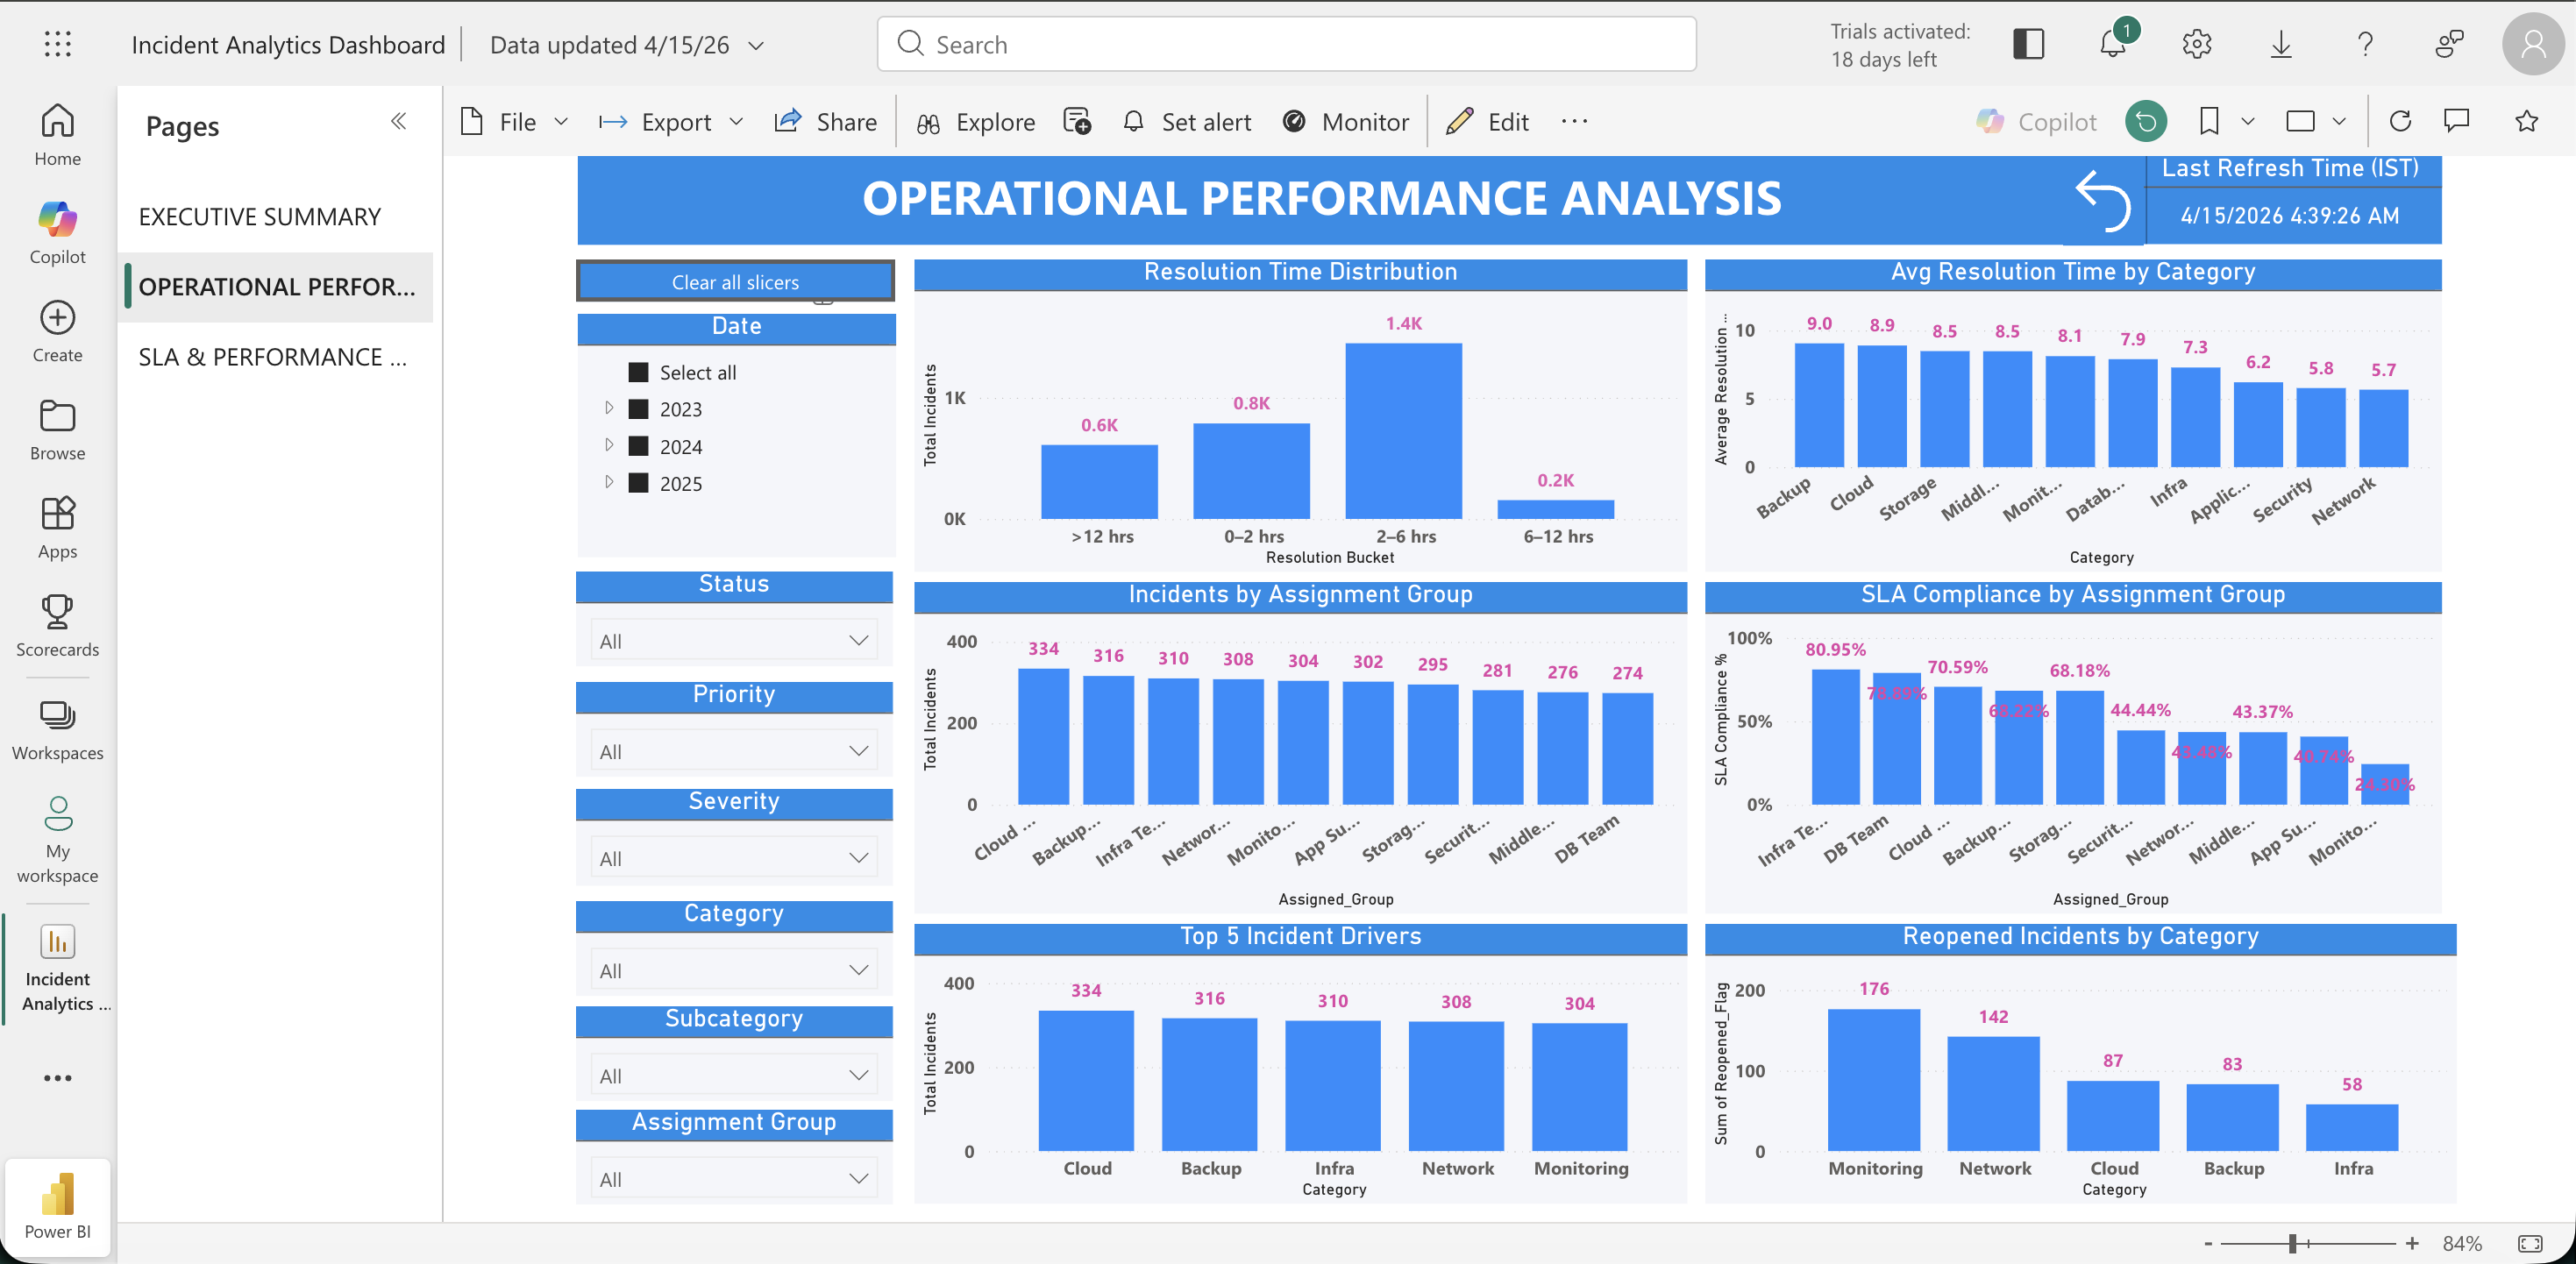

This screenshot's page, from the dashboard's own definition file:
{"tool":"powerbi","page":{"name":"OPERATIONAL PERFORMANCE ANALYSIS","canvas":[1280,720],"ordinal":1},"visuals":[{"type":"textbox","box":[10.2,0,1005.7,60],"z":0,"group":"g1"},{"type":"clusteredColumnChart","title":"Resolution Time Distribution","fields":{"Category":["Fact_Incident.Resolution Bucket"],"Y":["Measure.Total Incidents"]},"box":[238.5,69.8,522.2,210.9],"z":0},{"type":"slicer","title":"Status","fields":{"Values":["Dim_Status.Status"]},"box":[10.2,280.7,213.8,64],"z":0,"group":"g2"},{"type":"card","title":"Last Refresh Time (IST)","fields":{"Values":["Min(Last Refresh Time (IST).Last Refresh Time (IST))"]},"box":[1064.5,0,205.1,59.6],"z":1000,"group":"g1"},{"type":"clusteredColumnChart","title":"Avg Resolution Time by Category","fields":{"Y":["Measure.Average Resolution Time (Hours)"],"Category":["Dim_Category.Category"]},"box":[772.4,69.8,497.5,210.9],"z":1000},{"type":"slicer","title":"Priority","fields":{"Values":["Dim_Priority.Priority"]},"box":[10.2,354.9,213.8,64],"z":1000,"group":"g2"},{"type":"shape","box":[1058.9,0,20.4,59.6],"z":2000,"group":"g1"},{"type":"clusteredColumnChart","title":"Incidents by Assignment Group","fields":{"Y":["Measure.Total Incidents"],"Category":["Dim_Assigned_Group.Assigned_Group"]},"box":[238.5,288,522.2,224],"z":2000},{"type":"slicer","title":"Severity","fields":{"Values":["Dim_Severity.Severity"]},"box":[10.2,427.6,213.8,65.5],"z":2000,"group":"g2"},{"type":"clusteredColumnChart","title":"SLA Compliance by Assignment Group","fields":{"Y":["Measure.SLA Compliance %"],"Category":["Dim_Assigned_Group.Assigned_Group"]},"box":[772.4,288,497.5,224],"z":3000},{"type":"slicer","title":"Category","fields":{"Values":["Dim_Category.Category"]},"box":[10.2,503.3,213.8,64],"z":3000,"group":"g2"},{"type":"group","id":"g1","title":"ES Top Bar","box":[10.2,0,1259.4,60],"z":4000},{"type":"slicer","title":"Subcategory","fields":{"Values":["Dim_Subcategory.Subcategory"]},"box":[10.2,574.5,213.8,64],"z":4000,"group":"g2"},{"type":"group","id":"g2","title":"Slicer Group","box":[10,70,215.8,638.4],"z":5000},{"type":"slicer","title":"Assignment Group","fields":{"Values":["Dim_Assigned_Group.Assigned_Group"]},"box":[10.2,644.4,213.8,64],"z":5000,"group":"g2"},{"type":"slicer","title":"Date","fields":{"Values":["Dim_Date.Date Hierarchy.Year","Dim_Date.Date Hierarchy.Quater","Dim_Date.Date Hierarchy.Month","Dim_Date.Date Hierarchy.Day"]},"box":[10.7,106.7,215.1,164.5],"z":6000,"group":"g2"},{"type":"clusteredColumnChart","title":"Top 5 Incident Drivers","fields":{"Category":["Dim_Category.Category"],"Y":["Measure.Total Incidents"]},"box":[238.5,519.3,522.2,189.1],"z":6000},{"type":"actionButton","box":[10,70,215.7,28.6],"z":7000,"group":"g2"},{"type":"clusteredColumnChart","title":"Reopened Incidents by Category","fields":{"Category":["Dim_Category.Category"],"Y":["Sum(Fact_Incident.Reopened_Flag)"]},"box":[772.4,519.3,507.6,189.1],"z":7000},{"type":"actionButton","box":[1013.8,0,54.7,60.5],"z":8000}]}

Visuals, with their boxes on the page's 1280x720 design canvas (x1, y1, x2, y2). These are canvas units, not pixel positions in the 2576x1264 screenshot, which may show the page scaled, cropped or inside an application window:
textbox: [10, 0, 1016, 60]
"Resolution Time Distribution" clusteredColumnChart: [238, 70, 761, 281]
"Status" slicer: [10, 281, 224, 345]
"Last Refresh Time (IST)" card: [1064, 0, 1270, 60]
"Avg Resolution Time by Category" clusteredColumnChart: [772, 70, 1270, 281]
"Priority" slicer: [10, 355, 224, 419]
shape: [1059, 0, 1079, 60]
"Incidents by Assignment Group" clusteredColumnChart: [238, 288, 761, 512]
"Severity" slicer: [10, 428, 224, 493]
"SLA Compliance by Assignment Group" clusteredColumnChart: [772, 288, 1270, 512]
"Category" slicer: [10, 503, 224, 567]
"ES Top Bar" group: [10, 0, 1270, 60]
"Subcategory" slicer: [10, 574, 224, 638]
"Slicer Group" group: [10, 70, 226, 708]
"Assignment Group" slicer: [10, 644, 224, 708]
"Date" slicer: [11, 107, 226, 271]
"Top 5 Incident Drivers" clusteredColumnChart: [238, 519, 761, 708]
actionButton: [10, 70, 226, 99]
"Reopened Incidents by Category" clusteredColumnChart: [772, 519, 1280, 708]
actionButton: [1014, 0, 1068, 60]
